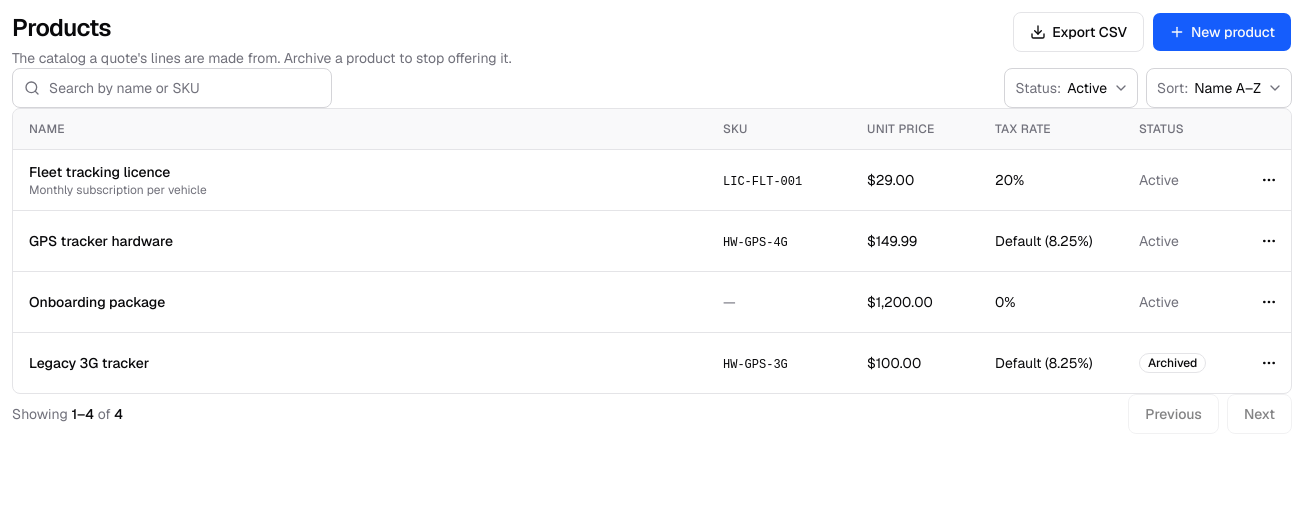
ProductsPage › offers an Admin Edit, Archive or Restore, and Delete
Click the button named "Actions for Onboarding package" at (1269, 302), box [1251,284,1287,320]
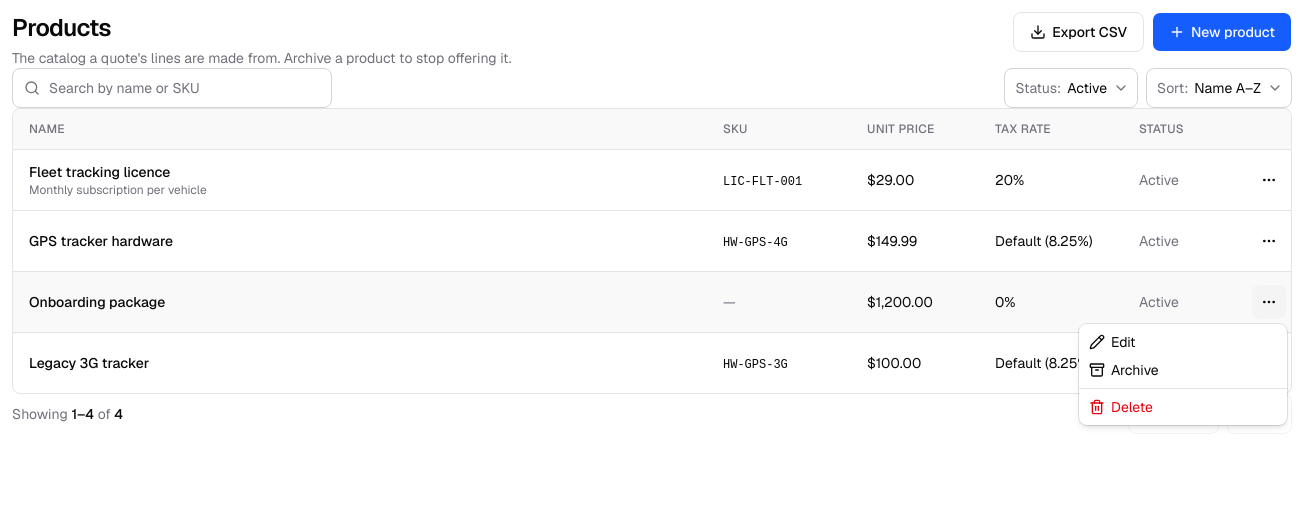
Check: the menu items read "Edit", "Archive", "Delete", in this order, box [1089,333,1136,351]; [1089,361,1159,379]; [1089,398,1153,416]
Press Escape
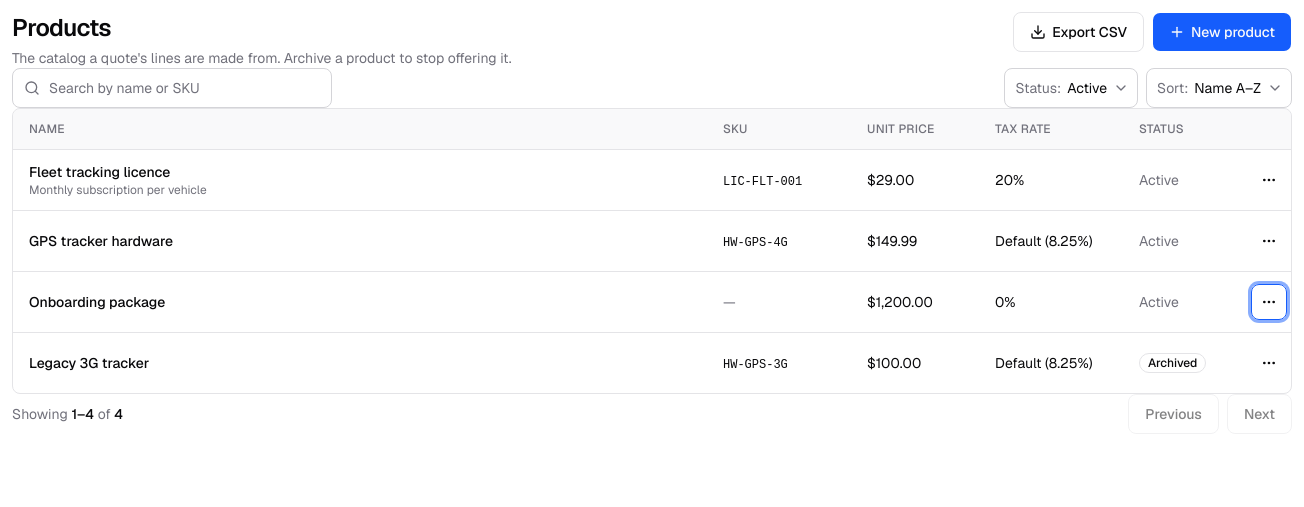
Click the button named "Actions for Legacy 3G tracker" at (1269, 362), box [1251,344,1287,380]
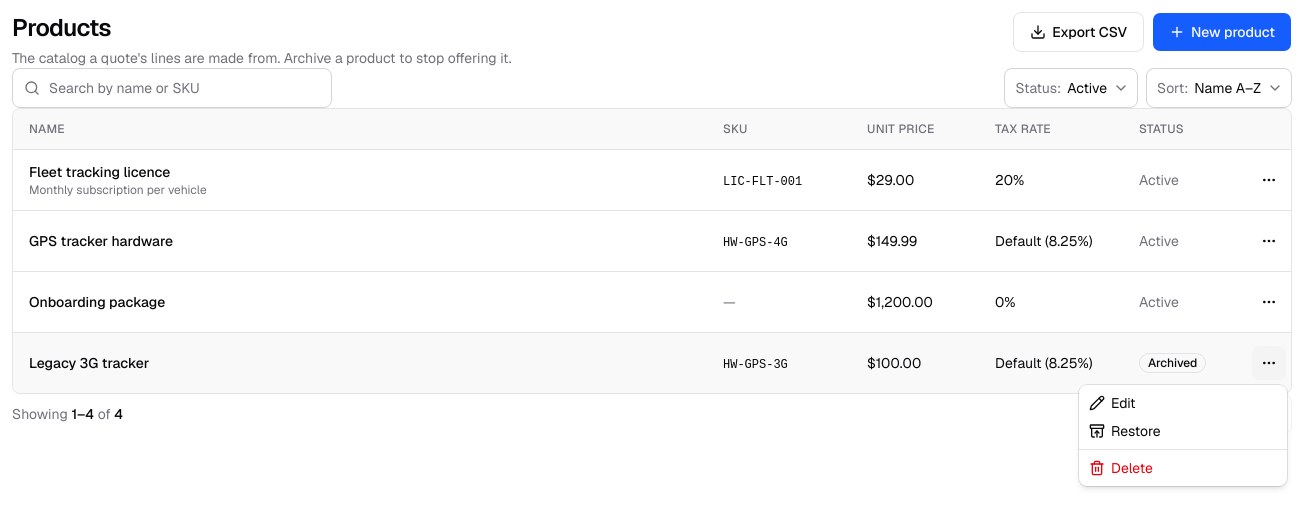
Check: the menu items read "Edit", "Restore", "Delete", in this order, box [1089,394,1136,412]; [1089,422,1161,440]; [1089,459,1153,477]
